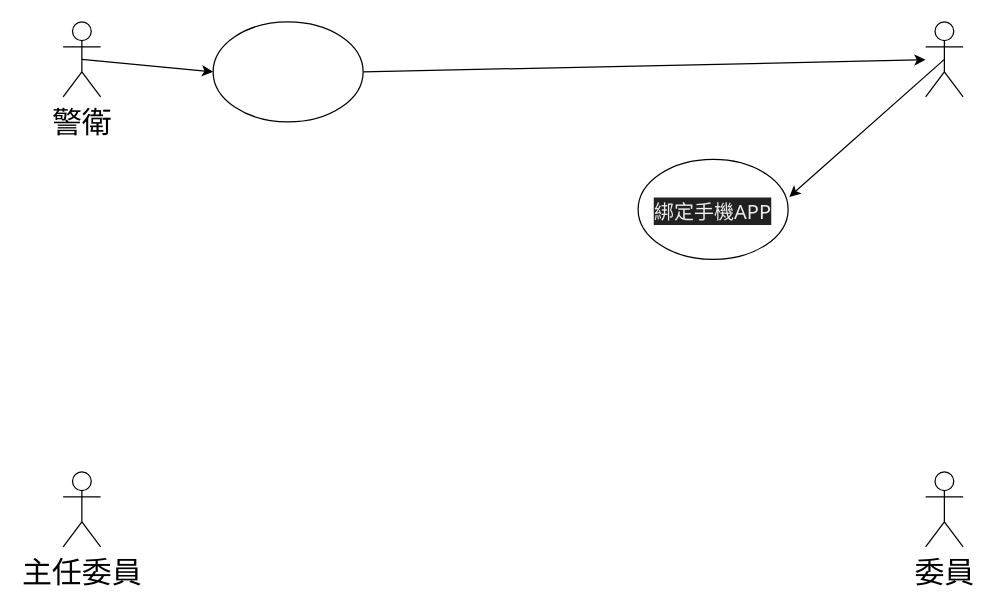
This 995x614 diagram has some shape labels left out. Each missing label, with the centre of its shape:
"住戶" belongs at pixel 943 59.
"簽收信件/包裹並通知住戶" belongs at pixel 287 71.
